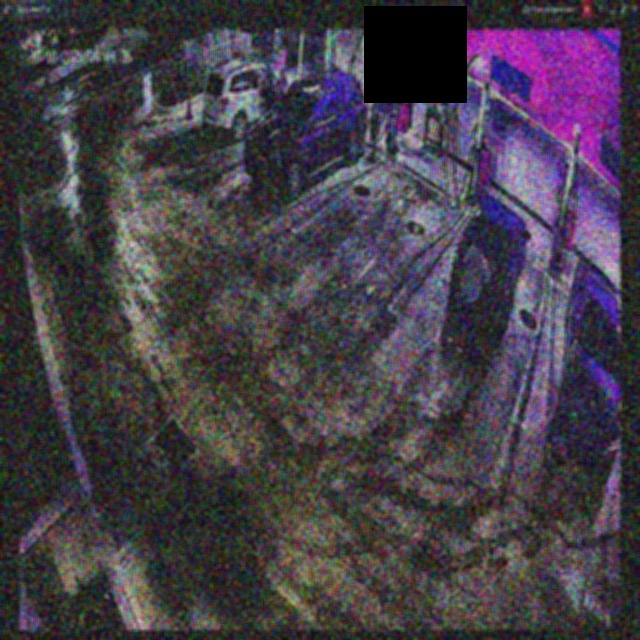Car: (242, 67, 367, 197), (451, 193, 529, 335)
